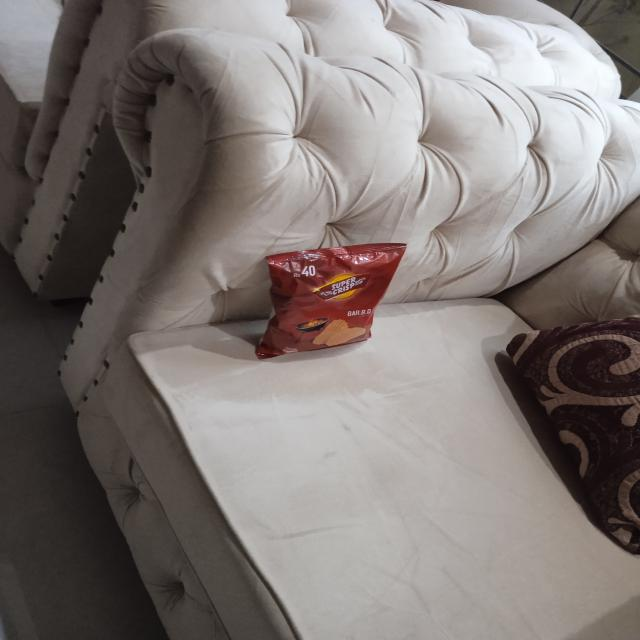Plastic: (258, 238, 406, 364)
